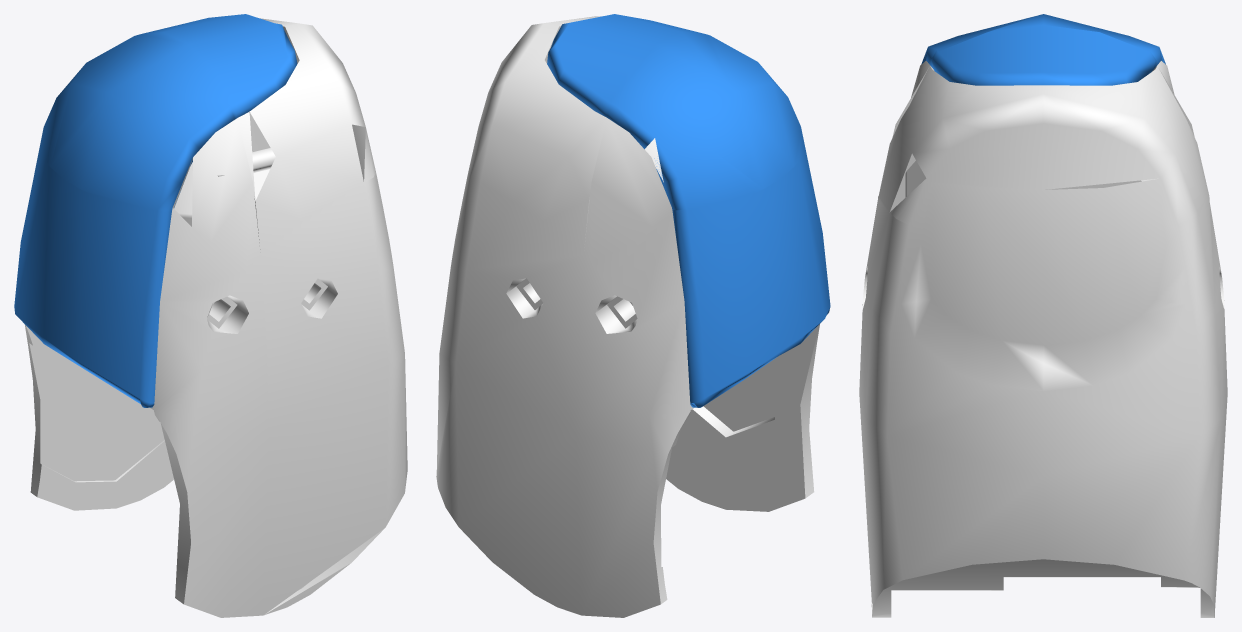
The model's file is hithand-2-finger-phadist.dae.
3 renders of one model, left to right at view 1: azimuth 30°, elevation 25°; view 2: azimuth 150°, elevation 25°; view 3: azimuth 270°, elevation 25°, orthographic. The views are drawn at different scales.
Parts seen in each view (by area): view 1: IndexedTriangleStripSet_2, IndexedTriangleStripSet_6, IndexedTriangleStripSet, IndexedTriangleStripSet_12, IndexedTriangleStripSet_4, IndexedTriangleStripSet_18, IndexedTriangleStripSet_14; view 2: IndexedTriangleStripSet_2, IndexedTriangleStripSet_14, IndexedTriangleStripSet, IndexedTriangleStripSet_6, IndexedTriangleStripSet_12, IndexedTriangleStripSet_18, IndexedTriangleStripSet_4; view 3: IndexedTriangleStripSet_2, IndexedTriangleStripSet_6, IndexedTriangleStripSet_14, IndexedTriangleStripSet, IndexedTriangleStripSet_18, IndexedTriangleStripSet_12, IndexedTriangleStripSet_4.
Boxes of the visible parts, x1,y1,x2,y2 form: IndexedTriangleStripSet_2: (26, 20, 407, 617); IndexedTriangleStripSet_6: (24, 23, 404, 617); IndexedTriangleStripSet: (14, 14, 295, 407); IndexedTriangleStripSet_12: (15, 23, 287, 402); IndexedTriangleStripSet_4: (15, 14, 297, 407); IndexedTriangleStripSet_18: (29, 18, 363, 613); IndexedTriangleStripSet_14: (25, 113, 392, 561); IndexedTriangleStripSet_2: (436, 17, 819, 617); IndexedTriangleStripSet_14: (437, 117, 722, 615); IndexedTriangleStripSet: (547, 14, 830, 407); IndexedTriangleStripSet_6: (437, 16, 819, 615); IndexedTriangleStripSet_12: (571, 14, 830, 406); IndexedTriangleStripSet_18: (506, 16, 819, 488); IndexedTriangleStripSet_4: (547, 32, 830, 404); IndexedTriangleStripSet_2: (859, 61, 1227, 617); IndexedTriangleStripSet_6: (859, 61, 1221, 617); IndexedTriangleStripSet_14: (863, 68, 1227, 617); IndexedTriangleStripSet: (921, 14, 1162, 85); IndexedTriangleStripSet_18: (871, 61, 1209, 612); IndexedTriangleStripSet_12: (932, 14, 1165, 85); IndexedTriangleStripSet_4: (932, 25, 1158, 85).
Bounding box in the file's own units: 0.0243 × 0.0369 × 0.0213.
